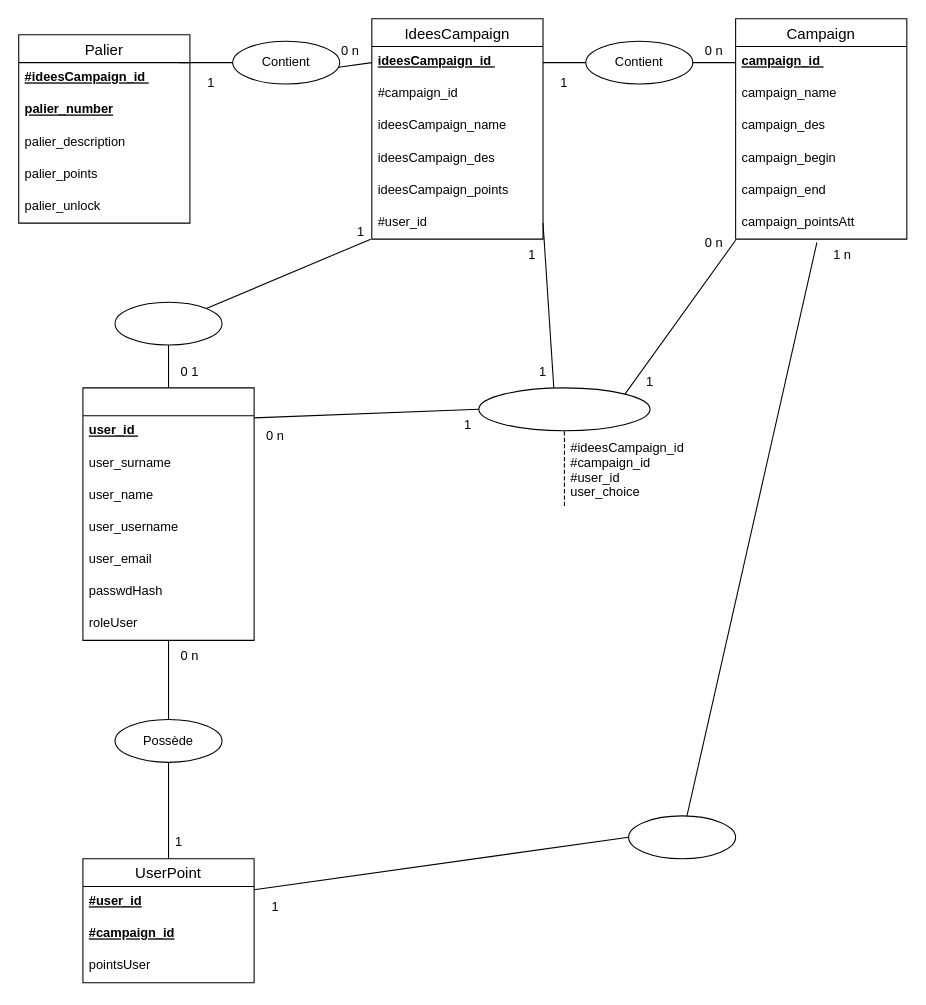
This 926x1005 diagram has some shape labels left out. The box of each missing label's shape, as (x1, y1, x2, y2) in pixels:
Crée: (114, 301, 222, 345)
Finance: (628, 815, 736, 859)
JuryChoice: (478, 387, 650, 431)
userBase: (82, 387, 254, 640)
